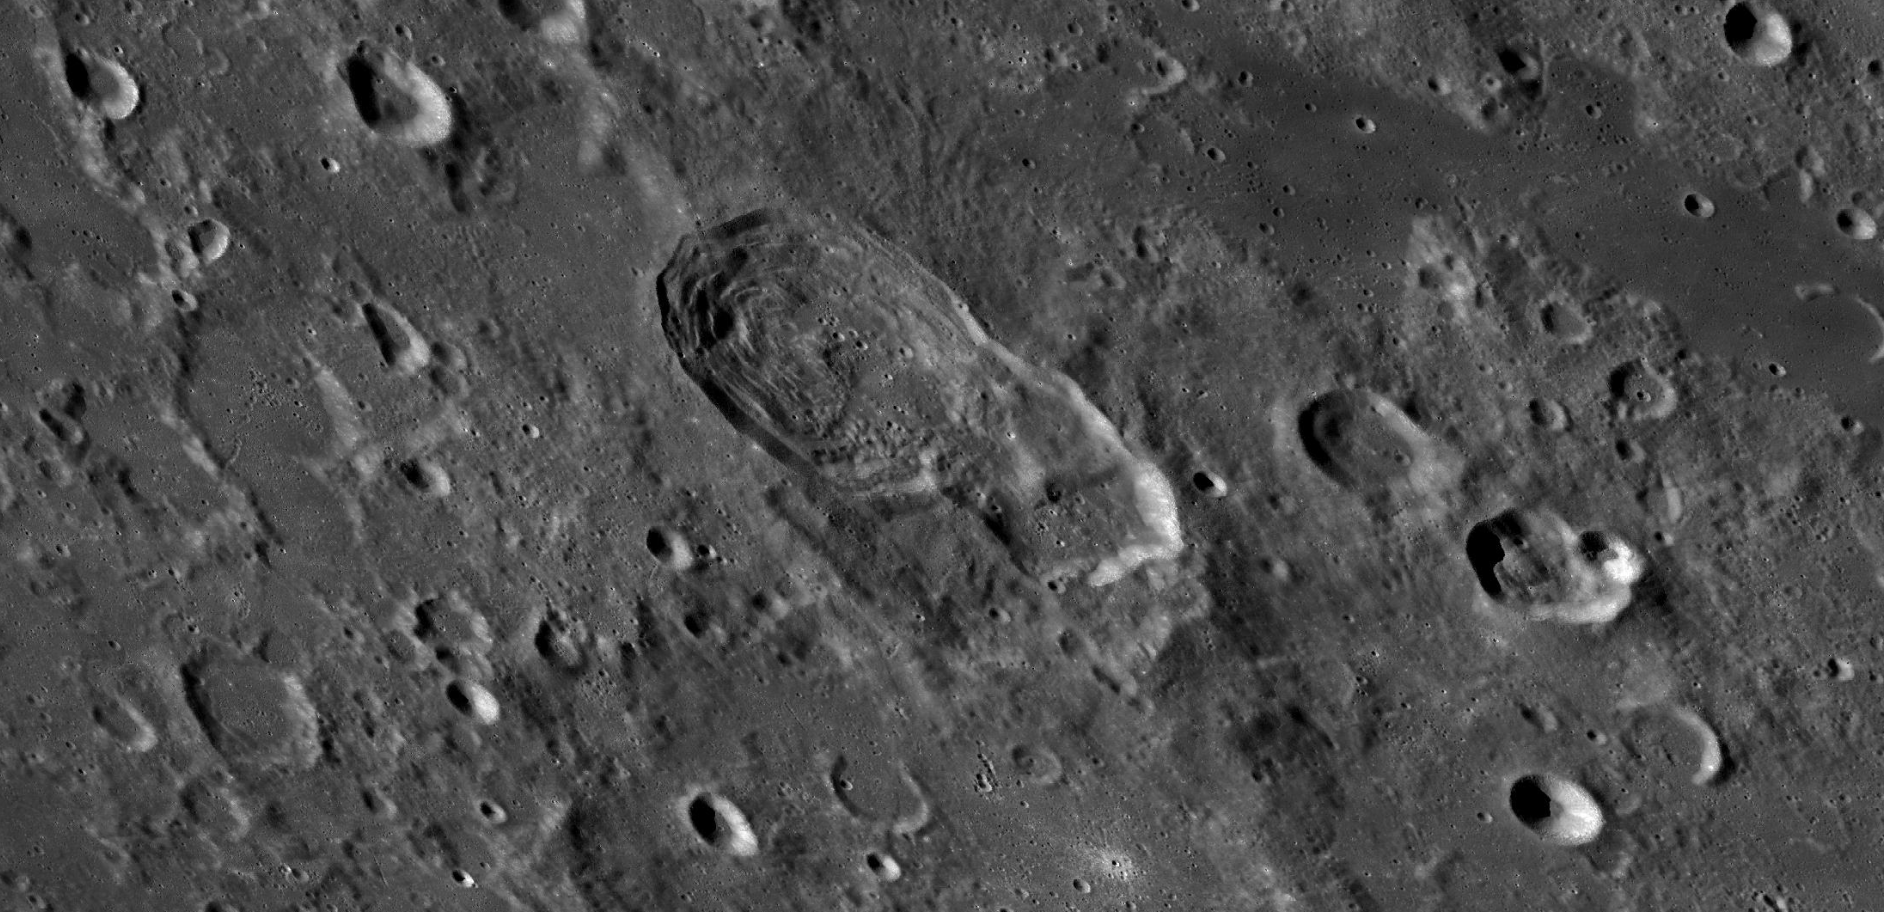crater: (618, 159, 1206, 628), (1272, 365, 1457, 535), (160, 639, 354, 792), (305, 36, 485, 180), (1455, 752, 1640, 874), (1691, 1, 1824, 95), (666, 780, 771, 870), (1655, 173, 1729, 243)
